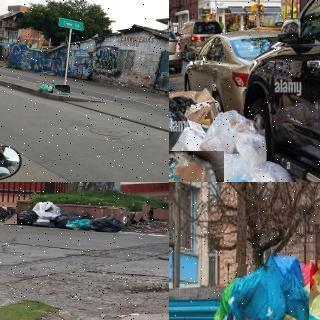Garbage: (198, 107, 268, 163), (227, 264, 285, 320), (266, 257, 312, 320), (169, 120, 212, 166), (169, 150, 224, 182), (169, 92, 190, 152), (219, 169, 280, 182), (31, 200, 63, 220), (92, 214, 125, 232), (56, 213, 88, 227), (65, 219, 92, 231), (0, 206, 17, 224), (18, 211, 38, 225), (38, 83, 57, 93), (53, 85, 70, 94)
